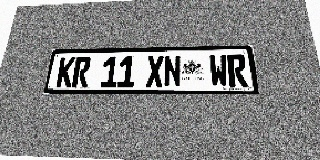1: (100, 56, 119, 87), (117, 56, 136, 87)
K: (55, 57, 76, 87)
N: (164, 55, 181, 87)
R: (227, 54, 248, 87), (71, 57, 91, 87)
W: (209, 54, 229, 87)
X: (146, 56, 164, 87)
